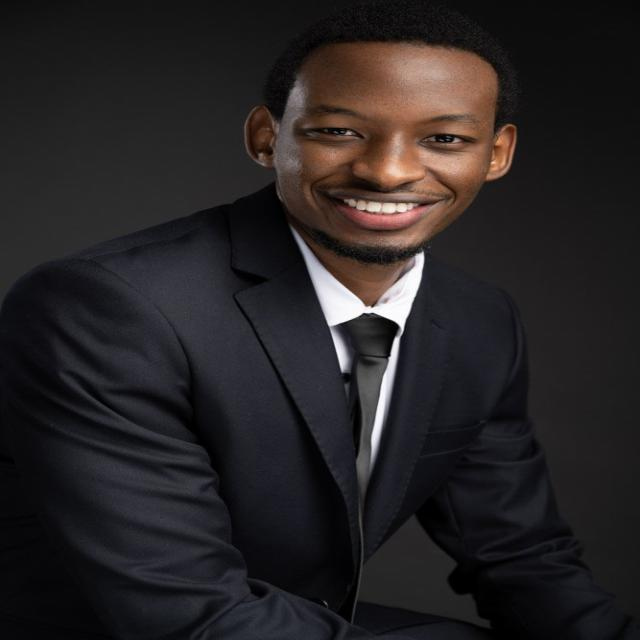nothing: (244, 0, 580, 110)
